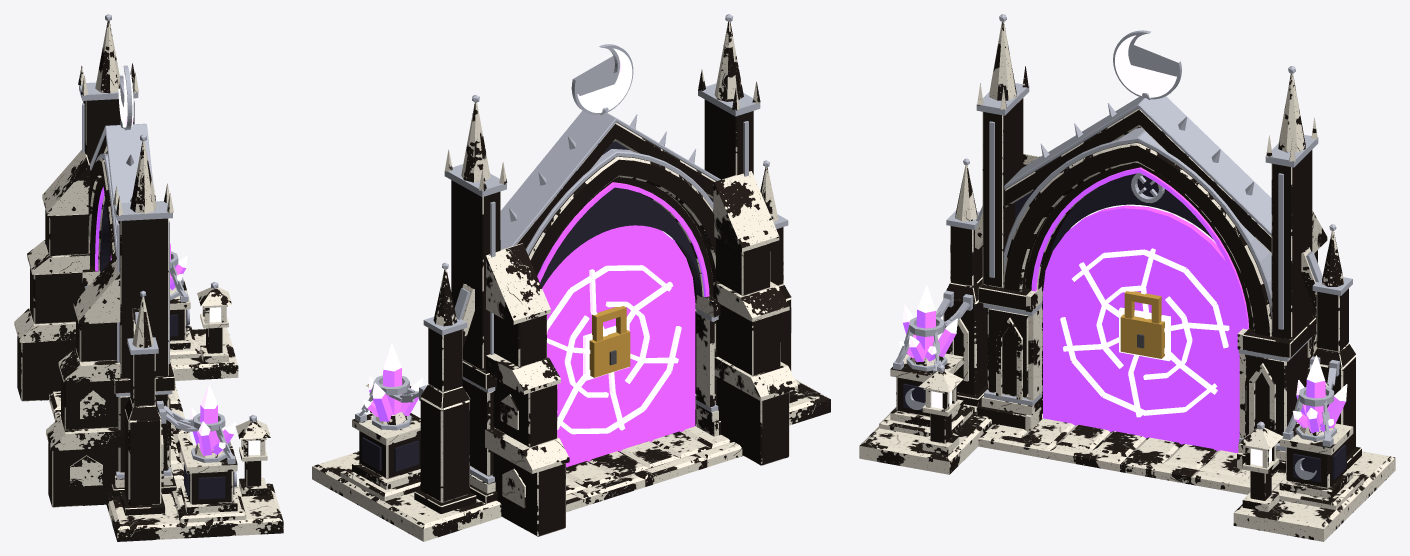
File: ILHA2_08_PURCHASE_GATES_94f9d4.fbx
3 renders of one model, left to right at view 1: azimuth 30°, elevation 25°; view 2: azimuth 150°, elevation 25°; view 3: azimuth 270°, elevation 25°, orthographic. The views are drawn at different scales.
Parts seen in each view (by area): view 1: GATE_ShadowGarden_Frame__Stone_GateSG_Obsidian, GATE_ShadowGarden_Frame__Stone_GateSG_Slate, GATE_ShadowGarden_Frame__Metal_GateSG_Silver, GATE_ShadowGarden_Frame__Stone_Wall_Dark, GATE_ShadowGarden_Frame__Stone_Wall_Light, GATE_ShadowGarden_Frame__P_Shadow_Stone, GATE_ShadowGarden_Glow__Crystal_Purple_Core, GATE_ShadowGarden_Glow__Crystal_Purple, GATE_ShadowGarden_Frame__Crystal_Purple_Core, GATE_ShadowGarden_Glow__P_Shadow_Glow; view 2: GATE_ShadowGarden_Frame__Stone_GateSG_Obsidian, GATE_ShadowGarden_Frame__Stone_GateSG_Slate, GATE_ShadowGarden_Barrier__P_Shadow_Glow, GATE_ShadowGarden_Frame__Metal_GateSG_Silver, GATE_ShadowGarden_Frame__Stone_Wall_Dark, GATE_ShadowGarden_Frame__P_Shadow_Stone, GATE_ShadowGarden_Barrier__Energy_Core_ShadowGarden_Glow, GATE_ShadowGarden_Frame__Stone_Wall_Light, GATE_ShadowGarden_Lock__Metal_Gold, GATE_ShadowGarden_Glow__Crystal_Purple_Core, GATE_ShadowGarden_Glow__P_Shadow_Glow, GATE_ShadowGarden_Glow__Crystal_Purple; view 3: GATE_ShadowGarden_Frame__Stone_GateSG_Obsidian, GATE_ShadowGarden_Barrier__P_Shadow_Glow, GATE_ShadowGarden_Frame__Metal_GateSG_Silver, GATE_ShadowGarden_Frame__Stone_GateSG_Slate, GATE_ShadowGarden_Frame__Stone_Wall_Dark, GATE_ShadowGarden_Frame__Stone_Wall_Light, GATE_ShadowGarden_Barrier__Energy_Core_ShadowGarden_Glow, GATE_ShadowGarden_Frame__P_Shadow_Stone, GATE_ShadowGarden_Glow__Crystal_Purple_Core, GATE_ShadowGarden_Glow__Crystal_Purple, GATE_ShadowGarden_Lock__Metal_Gold, GATE_ShadowGarden_Glow__P_Shadow_Glow.
Part boxes in pixels (x1,y1,x2,y2): GATE_ShadowGarden_Frame__Stone_GateSG_Obsidian: (17, 21, 270, 513); GATE_ShadowGarden_Frame__Stone_GateSG_Slate: (14, 63, 265, 515); GATE_ShadowGarden_Frame__Metal_GateSG_Silver: (79, 14, 256, 487); GATE_ShadowGarden_Frame__Stone_Wall_Dark: (49, 328, 283, 541); GATE_ShadowGarden_Frame__Stone_Wall_Light: (170, 325, 246, 522); GATE_ShadowGarden_Frame__P_Shadow_Stone: (100, 200, 234, 499); GATE_ShadowGarden_Glow__Crystal_Purple_Core: (118, 74, 235, 449); GATE_ShadowGarden_Glow__Crystal_Purple: (170, 243, 233, 455); GATE_ShadowGarden_Frame__Crystal_Purple_Core: (209, 307, 260, 455); GATE_ShadowGarden_Glow__P_Shadow_Glow: (95, 187, 104, 271); GATE_ShadowGarden_Frame__Stone_GateSG_Obsidian: (352, 21, 791, 536); GATE_ShadowGarden_Frame__Stone_GateSG_Slate: (359, 69, 797, 513); GATE_ShadowGarden_Barrier__P_Shadow_Glow: (542, 225, 695, 467); GATE_ShadowGarden_Frame__Metal_GateSG_Silver: (355, 14, 788, 483); GATE_ShadowGarden_Frame__Stone_Wall_Dark: (312, 379, 830, 541); GATE_ShadowGarden_Frame__P_Shadow_Stone: (362, 141, 713, 471); GATE_ShadowGarden_Barrier__Energy_Core_ShadowGarden_Glow: (547, 265, 681, 434); GATE_ShadowGarden_Frame__Stone_Wall_Light: (340, 424, 730, 501); GATE_ShadowGarden_Lock__Metal_Gold: (589, 306, 630, 377); GATE_ShadowGarden_Glow__Crystal_Purple_Core: (363, 48, 632, 407); GATE_ShadowGarden_Glow__P_Shadow_Glow: (537, 182, 709, 296); GATE_ShadowGarden_Glow__Crystal_Purple: (366, 368, 418, 421); GATE_ShadowGarden_Frame__Stone_GateSG_Obsidian: (890, 22, 1355, 511); GATE_ShadowGarden_Barrier__P_Shadow_Glow: (1043, 205, 1243, 453); GATE_ShadowGarden_Frame__Metal_GateSG_Silver: (893, 14, 1352, 479); GATE_ShadowGarden_Frame__Stone_GateSG_Slate: (896, 66, 1361, 500); GATE_ShadowGarden_Frame__Stone_Wall_Dark: (859, 404, 1395, 541); GATE_ShadowGarden_Frame__Stone_Wall_Light: (879, 405, 1364, 510); GATE_ShadowGarden_Barrier__Energy_Core_ShadowGarden_Glow: (1060, 248, 1229, 417); GATE_ShadowGarden_Frame__P_Shadow_Stone: (903, 127, 1346, 482); GATE_ShadowGarden_Glow__Crystal_Purple_Core: (898, 35, 1347, 426); GATE_ShadowGarden_Glow__Crystal_Purple: (903, 309, 1345, 433); GATE_ShadowGarden_Lock__Metal_Gold: (1120, 291, 1164, 358); GATE_ShadowGarden_Glow__P_Shadow_Glow: (1031, 167, 1248, 329).
Bounding box in the file's own units: 27.78 × 32.5 × 38.26.
9 materials, 1 textured.
